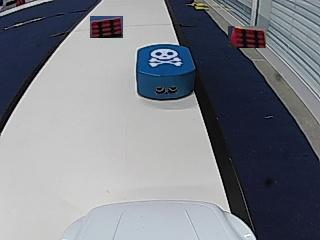danger: (149, 49, 182, 67)
